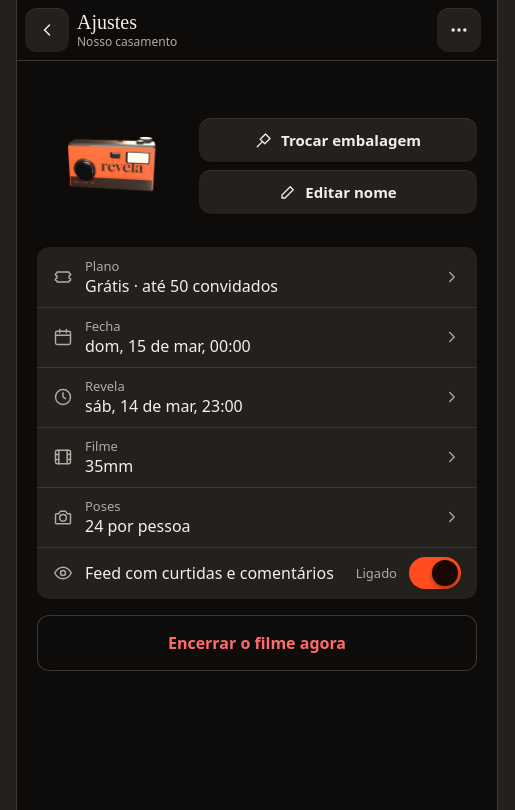
Test: Ajustes (painel) com repositório em memória › interruptor do feed: role=switch com nome, estado exposto e visível, e grava
Expected: the text "Ligado" is shown, x1=356 y1=564 x2=397 y2=582
Click the switch labelled "Feed com curtidas e comentários": (257, 573) x1=37 y1=547 x2=477 y2=599
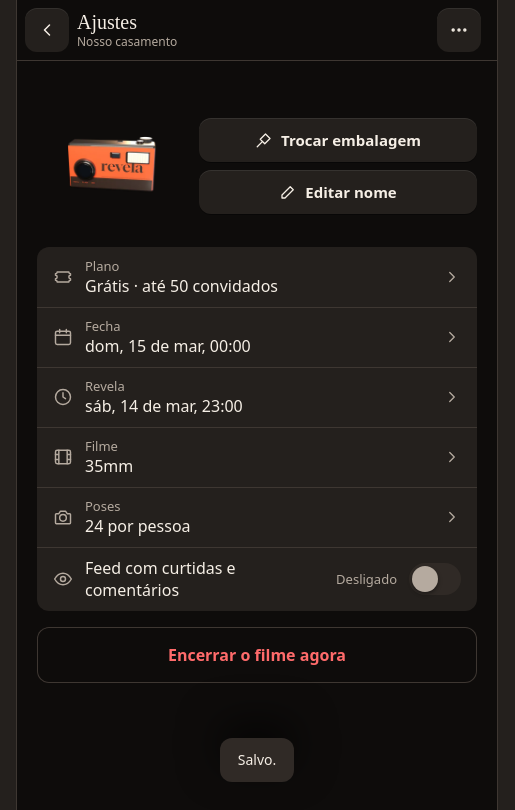
Expected: the text "Desligado" is shown, x1=336 y1=570 x2=397 y2=588
